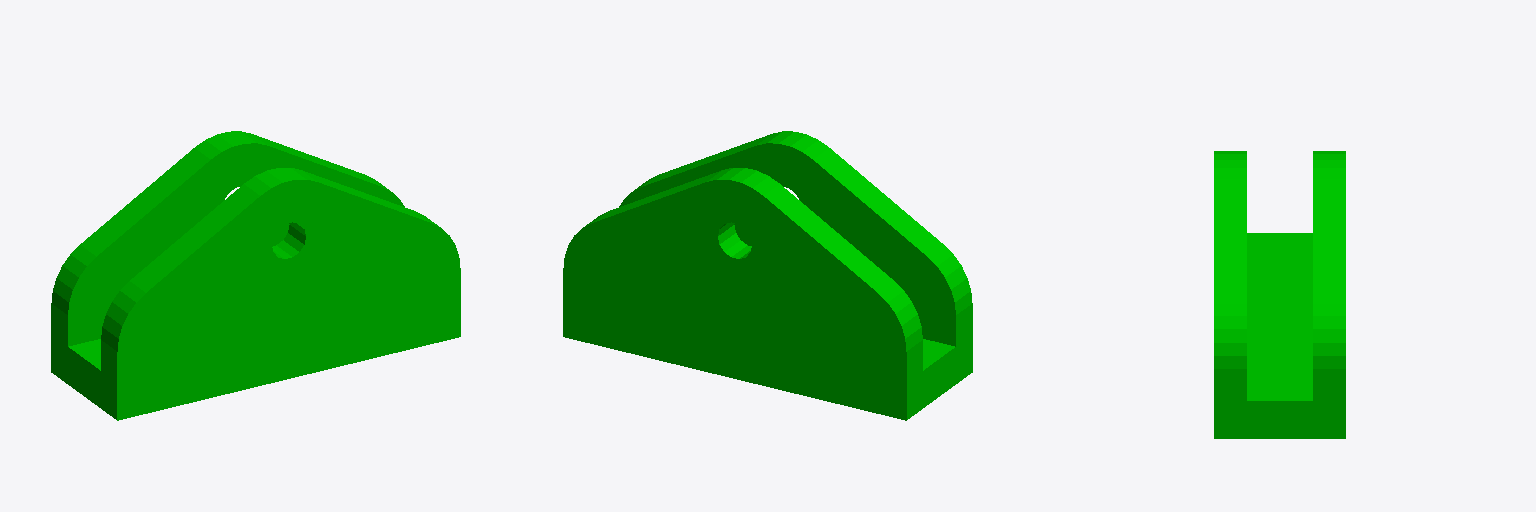
The model's file is react_stand.obj.
3 views of the same model, side by side, from view 1: azimuth 30°, elevation 25°; view 2: azimuth 150°, elevation 25°; view 3: azimuth 270°, elevation 25° (orthographic).
Parts seen in each view (by area): view 1: react_stand; view 2: react_stand; view 3: react_stand.
Boxes of the visible parts, box(x1,y1,x2,y2) form: react_stand: box(51, 131, 460, 420); react_stand: box(563, 131, 972, 420); react_stand: box(1214, 151, 1345, 438).
Size of the model in its own units: 3 by 1.65 by 1.